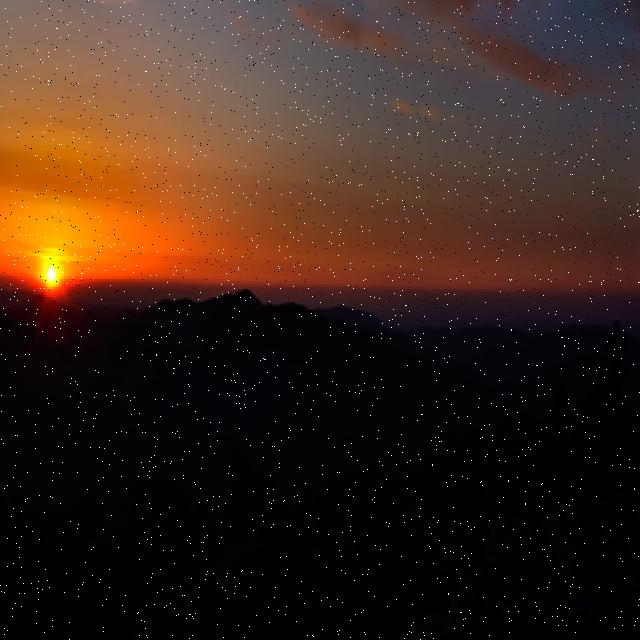light: (27, 247, 79, 304)
